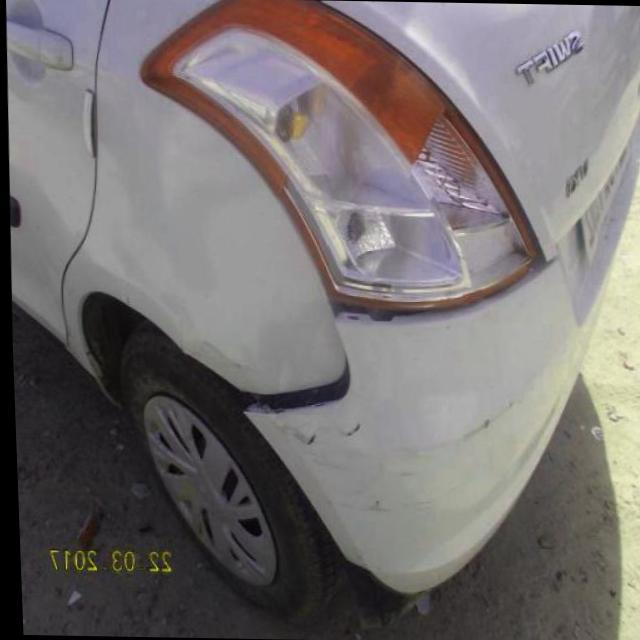Car-Damage: (173, 43, 503, 296), (220, 351, 350, 428), (398, 395, 510, 459), (326, 284, 460, 333), (266, 408, 364, 456)
